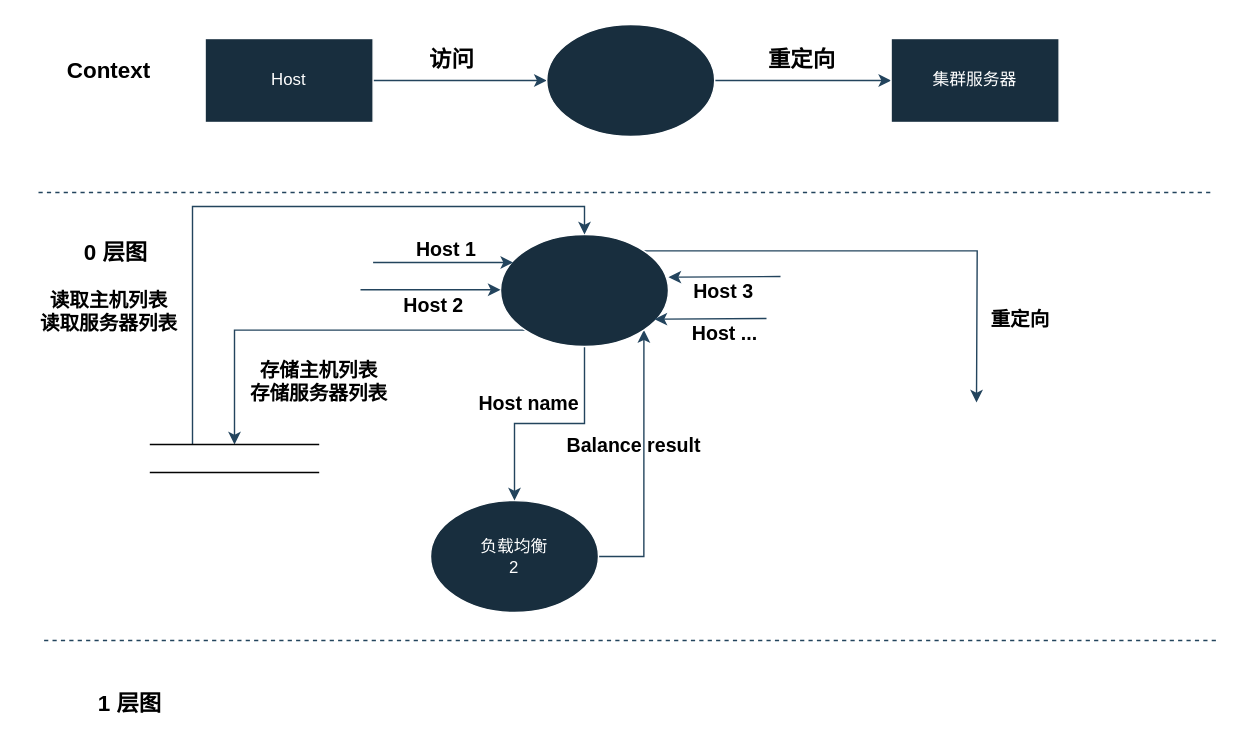
Image size: 1246x749. Some labels were removed from this diagram. The shapes that lost their labels are listed below. From the top down, each one's centre as x and y in pixels, then its label:
[630,79]: Balancer
[583,289]: 反向代理 1
